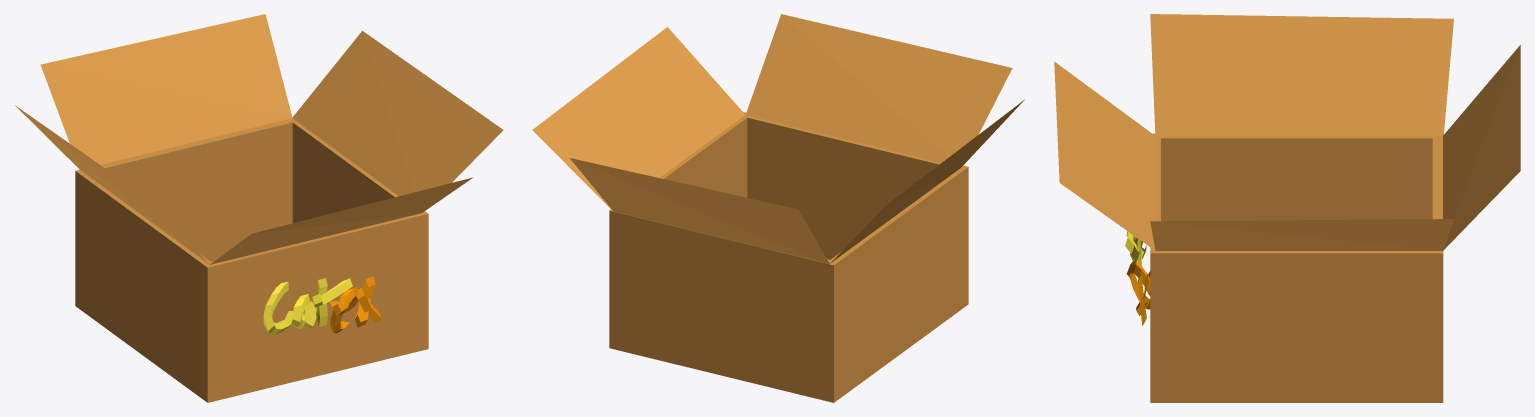
3 renders of one model, left to right at view 1: azimuth 30°, elevation 25°; view 2: azimuth 150°, elevation 25°; view 3: azimuth 270°, elevation 25°, orthographic. The views are drawn at different scales.
Parts seen in each view (by area): view 1: mesh_1027020084, mesh_1416774535, mesh_1745798704, mesh_1905559705, mesh_993072852, mesh_741416071, mesh_894570446, mesh_35993692, mesh_338550824, group_375736567, group_375167306, group_1002656165 (+2 smaller); view 2: mesh_993072852, mesh_894570446, mesh_1905559705, mesh_1745798704, mesh_1027020084, mesh_1416774535, mesh_741416071, mesh_35993692, mesh_338550824; view 3: mesh_741416071, mesh_338550824, mesh_1905559705, mesh_894570446, mesh_1416774535, mesh_1745798704, mesh_35993692, mesh_993072852, group_375167306, mesh_1027020084.
Boxes of the visible parts, left/top/right/bottom form: mesh_1027020084: left=203, top=213, right=424, bottom=393; mesh_1416774535: left=40, top=14, right=292, bottom=169; mesh_1745798704: left=292, top=31, right=503, bottom=196; mesh_1905559705: left=80, top=173, right=215, bottom=393; mesh_993072852: left=75, top=118, right=296, bottom=300; mesh_741416071: left=292, top=121, right=428, bottom=342; mesh_894570446: left=210, top=177, right=473, bottom=264; mesh_35993692: left=75, top=297, right=428, bottom=402; mesh_338550824: left=15, top=105, right=209, bottom=264; group_375736567: left=263, top=281, right=293, bottom=334; group_375167306: left=330, top=287, right=358, bottom=333; group_1002656165: left=291, top=294, right=316, bottom=328; mesh_993072852: left=609, top=209, right=838, bottom=393; mesh_894570446: left=745, top=14, right=1012, bottom=167; mesh_1905559705: left=825, top=169, right=963, bottom=393; mesh_1745798704: left=532, top=27, right=745, bottom=211; mesh_1027020084: left=743, top=115, right=968, bottom=298; mesh_1416774535: left=570, top=158, right=829, bottom=263; mesh_741416071: left=660, top=112, right=749, bottom=197; mesh_35993692: left=609, top=296, right=968, bottom=402; mesh_338550824: left=830, top=99, right=1024, bottom=263; mesh_741416071: left=1150, top=249, right=1437, bottom=393; mesh_338550824: left=1150, top=14, right=1453, bottom=136; mesh_1905559705: left=1153, top=133, right=1432, bottom=221; mesh_894570446: left=1054, top=61, right=1155, bottom=250; mesh_1416774535: left=1443, top=45, right=1520, bottom=249; mesh_1745798704: left=1150, top=219, right=1453, bottom=250; mesh_35993692: left=1150, top=393, right=1443, bottom=402; mesh_993072852: left=1432, top=136, right=1443, bottom=393; group_375167306: left=1127, top=261, right=1150, bottom=309; mesh_1027020084: left=1150, top=134, right=1160, bottom=250.
Bounding box in the file's own units: 84.5 × 49.5 × 87.5.
